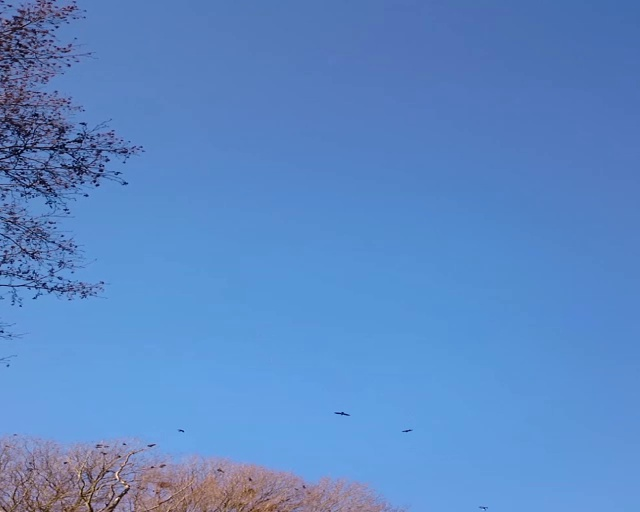BIRD: (334, 411, 349, 416)
